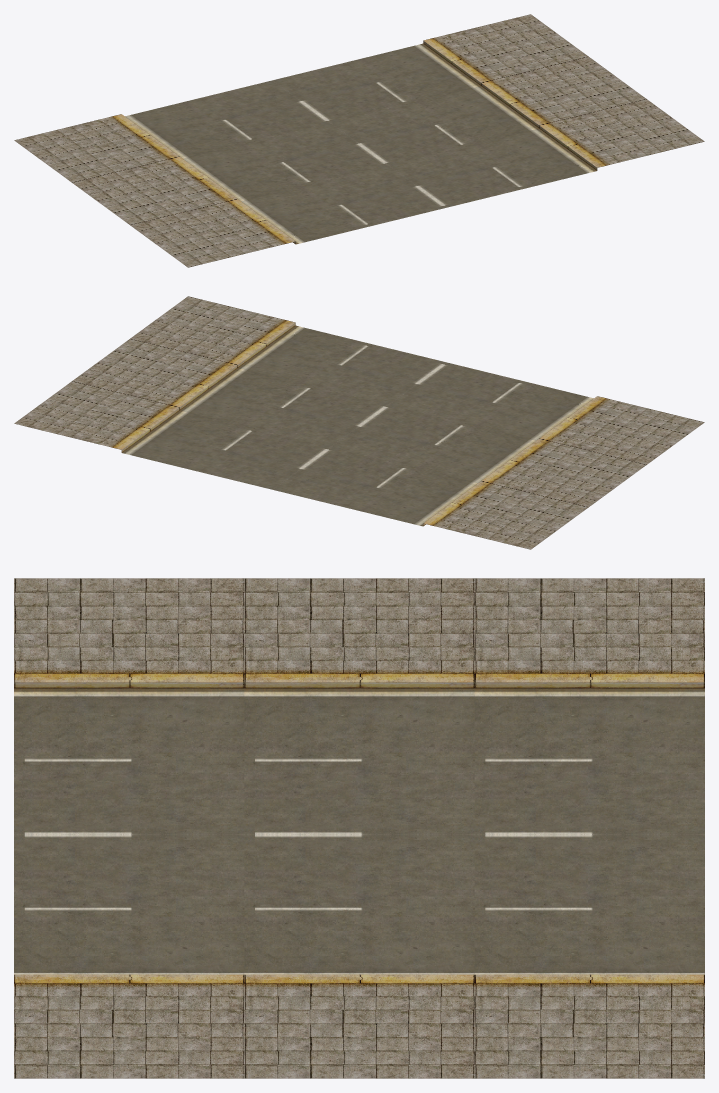
File: Road2_Part_07_A.fbx
3 views of the same model, one above another, from view 1: azimuth 30°, elevation 25°; view 2: azimuth 150°, elevation 25°; view 3: azimuth 270°, elevation 25° (orthographic). The views are drawn at different scales.
Visible parts, largest first — view 1: Road_Part_12; view 2: Road_Part_12; view 3: Road_Part_12.
Part boxes in pixels (box(x1,y1,x2,y2)): Road_Part_12: box(14, 14, 704, 267); Road_Part_12: box(14, 296, 704, 549); Road_Part_12: box(14, 578, 704, 1078).
Size of the model in its own units: 2400 by 13.63 by 1400.
